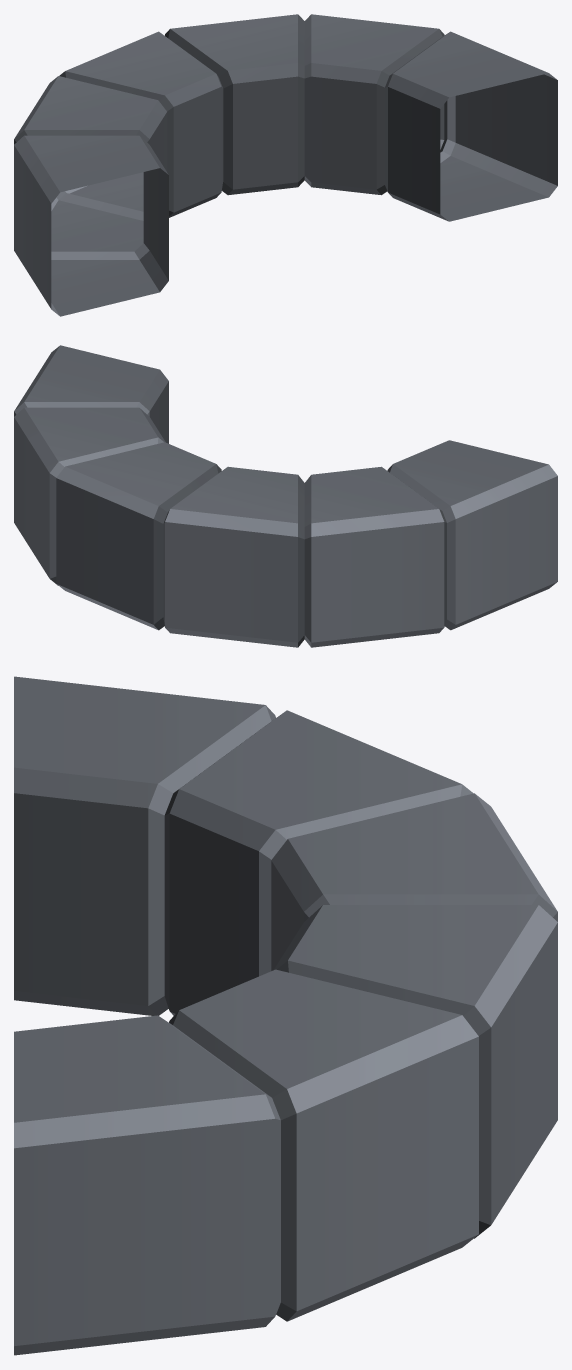
The model's file is Arch 01.FBX.
3 renders of one model, top to bottom at view 1: azimuth 30°, elevation 25°; view 2: azimuth 150°, elevation 25°; view 3: azimuth 270°, elevation 25°, orthographic. The views are drawn at different scales.
Parts seen in each view (by area): view 1: Arch 01; view 2: Arch 01; view 3: Arch 01.
Boxes of the visible parts, x1,y1,x2,y2 form: Arch 01: [14, 14, 557, 316]; Arch 01: [14, 345, 557, 647]; Arch 01: [14, 676, 557, 1355].
Size of the model in its own units: 266 by 62.32 by 132.
